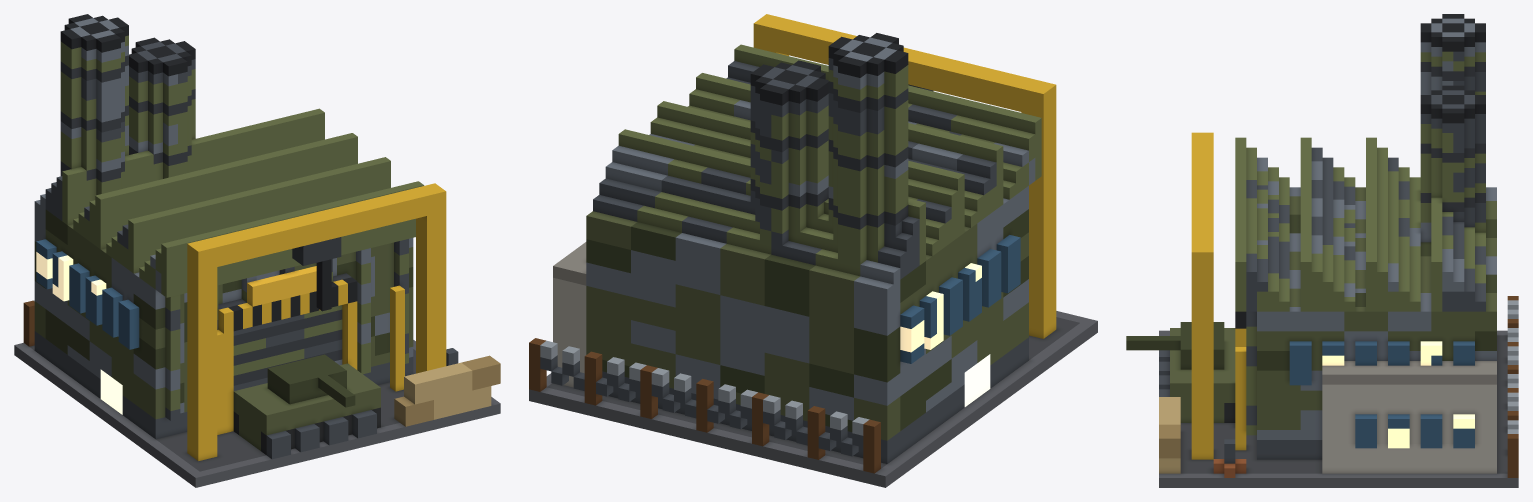
The model's file is cm_factory_2.glb.
The picture shows the model from 3 angles, left to right: view 1: azimuth 30°, elevation 25°; view 2: azimuth 150°, elevation 25°; view 3: azimuth 270°, elevation 25°; orthographic projection. The views are drawn at different scales.
Parts seen in each view (by area): view 1: cm_factory_2_body; view 2: cm_factory_2_body; view 3: cm_factory_2_body.
Boxes of the visible parts, <box> form: cm_factory_2_body: <box>14,14,500,487</box>; cm_factory_2_body: <box>529,14,1097,487</box>; cm_factory_2_body: <box>1126,14,1518,487</box>.
Size of the model in its own units: 2 by 2.12 by 2.25.
1 material, 1 textured.
